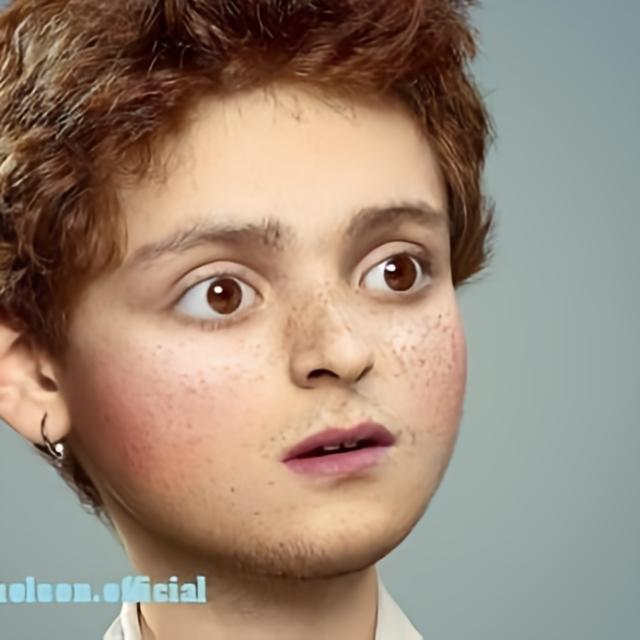fear: (82, 85, 469, 582)
